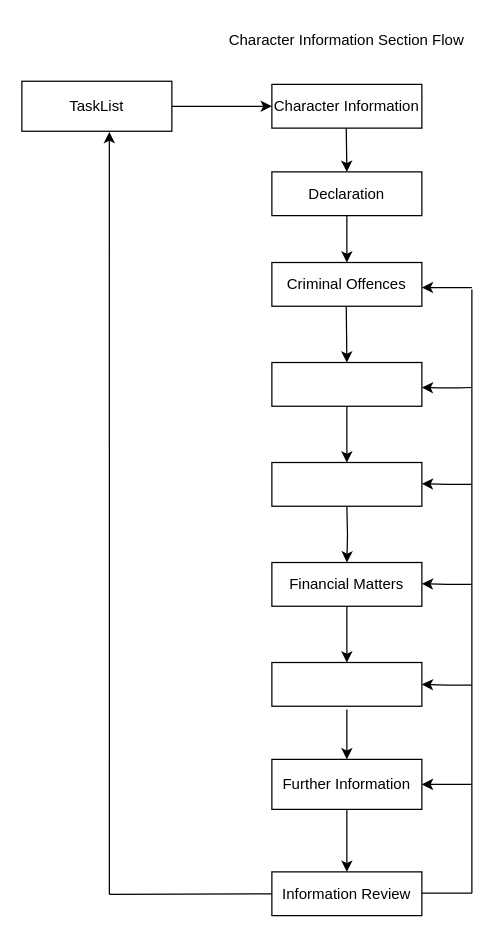
Image size: 504x938. Some labels were removed from this diagram. Each missing label, with the centre of its shape:
"Fixed Penalty Notices" goes at (x=346, y=383).
"Motoring Offences" goes at (x=346, y=483).
"Professional Conduct" goes at (x=346, y=683).
